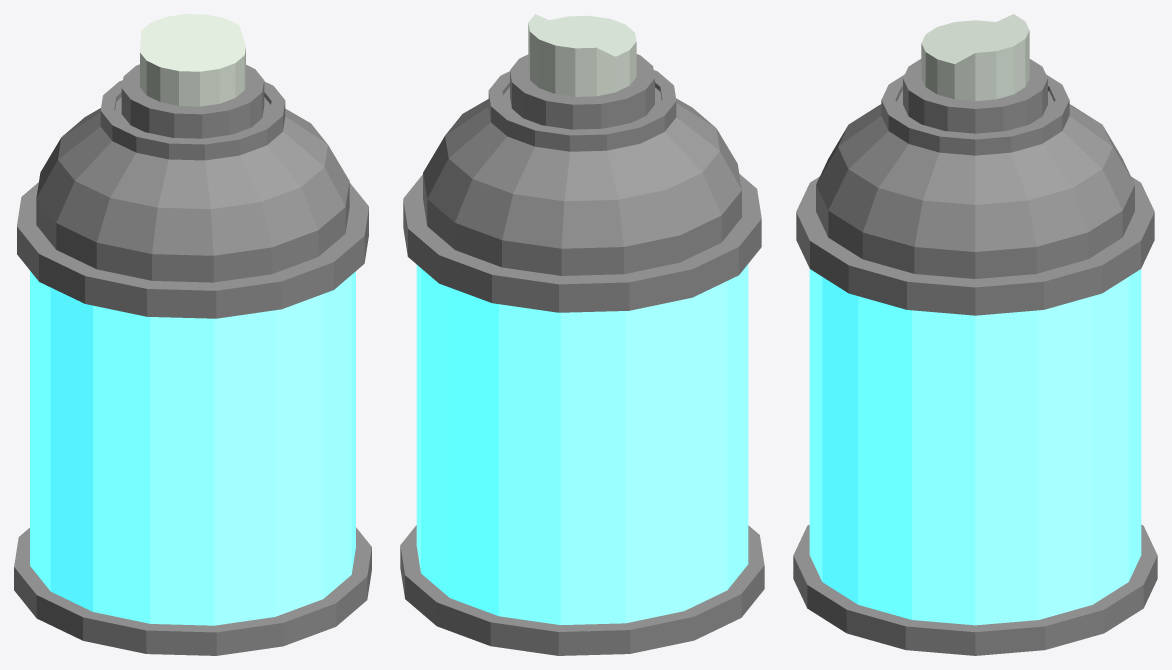
The model's file is sprayingcan.fbx.
3 views of the same model, side by side, from view 1: azimuth 30°, elevation 25°; view 2: azimuth 150°, elevation 25°; view 3: azimuth 270°, elevation 25° (orthographic).
Visible parts, largest first — view 1: Cylinder; view 2: Cylinder; view 3: Cylinder.
Part boxes in pixels (x1,y1,x2,y2): Cylinder: [14, 14, 371, 655]; Cylinder: [400, 14, 764, 655]; Cylinder: [793, 14, 1157, 655].
Bounding box in the file's own units: 200 × 333 × 200.
